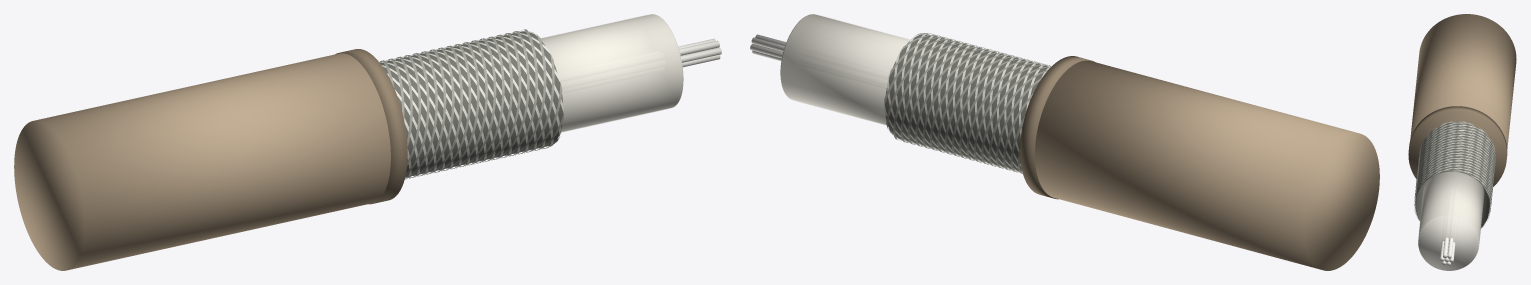
File: rf-gore-pf.glb
3 views of the same model, side by side, from view 1: azimuth 30°, elevation 25°; view 2: azimuth 150°, elevation 25°; view 3: azimuth 270°, elevation 25° (orthographic). The views are drawn at different scales.
Visible parts, largest first — view 1: matte black pvc jacket body, smooth dielectric skin, gas injected foam dielectric, braid dark diamond recess, jacket cut lip, braid left hand woven carrier 01, braid left hand woven carrier 02, braid left hand woven carrier 12, braid left hand woven carrier 11, braid left hand woven carrier 03, braid left hand woven carrier 10, braid left hand woven carrier 09 (+12 smaller); view 2: matte black pvc jacket body, smooth dielectric skin, gas injected foam dielectric, braid dark diamond recess, jacket cut lip, braid left hand woven carrier 09, braid left hand woven carrier 08, braid left hand woven carrier 10, braid left hand woven carrier 07, braid left hand woven carrier 11, braid left hand woven carrier 06, braid right hand woven carrier 08 (+11 smaller); view 3: matte black pvc jacket body, gas injected foam dielectric, braid dark diamond recess, smooth dielectric skin, jacket cut lip, braid left hand woven carrier 11, braid left hand woven carrier 09, braid left hand woven carrier 10, braid left hand woven carrier 08, braid left hand woven carrier 12, braid left hand woven carrier 07, braid right hand woven carrier 10 (+19 smaller).
Boxes of the visible parts, <box> form: matte black pvc jacket body: <box>14,53,390,270</box>; smooth dielectric skin: <box>541,14,682,132</box>; gas injected foam dielectric: <box>541,14,683,131</box>; braid dark diamond recess: <box>380,31,563,177</box>; jacket cut lip: <box>335,49,407,204</box>; braid left hand woven carrier 01: <box>405,29,537,178</box>; braid left hand woven carrier 02: <box>405,34,546,179</box>; braid left hand woven carrier 12: <box>405,31,529,175</box>; braid left hand woven carrier 11: <box>404,33,521,165</box>; braid left hand woven carrier 03: <box>410,47,554,177</box>; braid left hand woven carrier 10: <box>396,34,512,165</box>; braid left hand woven carrier 09: <box>387,36,504,166</box>; matte black pvc jacket body: <box>1035,60,1379,270</box>; smooth dielectric skin: <box>781,14,909,125</box>; gas injected foam dielectric: <box>780,14,909,124</box>; braid dark diamond recess: <box>885,34,1048,171</box>; jacket cut lip: <box>1020,56,1095,199</box>; braid left hand woven carrier 09: <box>893,43,1050,164</box>; braid left hand woven carrier 08: <box>900,45,1047,166</box>; braid left hand woven carrier 10: <box>886,41,1050,162</box>; braid left hand woven carrier 07: <box>908,47,1041,168</box>; braid left hand woven carrier 11: <box>884,39,1050,160</box>; braid left hand woven carrier 06: <box>915,49,1033,170</box>; braid right hand woven carrier 08: <box>916,35,1026,166</box>; matte black pvc jacket body: <box>1410,14,1516,147</box>; gas injected foam dielectric: <box>1418,171,1483,270</box>; braid dark diamond recess: <box>1415,122,1494,227</box>; smooth dielectric skin: <box>1418,172,1483,243</box>; jacket cut lip: <box>1408,106,1507,186</box>; braid left hand woven carrier 11: <box>1415,132,1493,203</box>; braid left hand woven carrier 09: <box>1416,127,1494,228</box>; braid left hand woven carrier 10: <box>1416,129,1494,218</box>; braid left hand woven carrier 08: <box>1416,124,1494,194</box>; braid left hand woven carrier 12: <box>1415,135,1493,196</box>; braid left hand woven carrier 07: <box>1417,122,1495,199</box>; braid right hand woven carrier 10: <box>1414,130,1495,221</box>.
Bounding box in the file's own units: 6.53 × 1.34 × 1.47.
